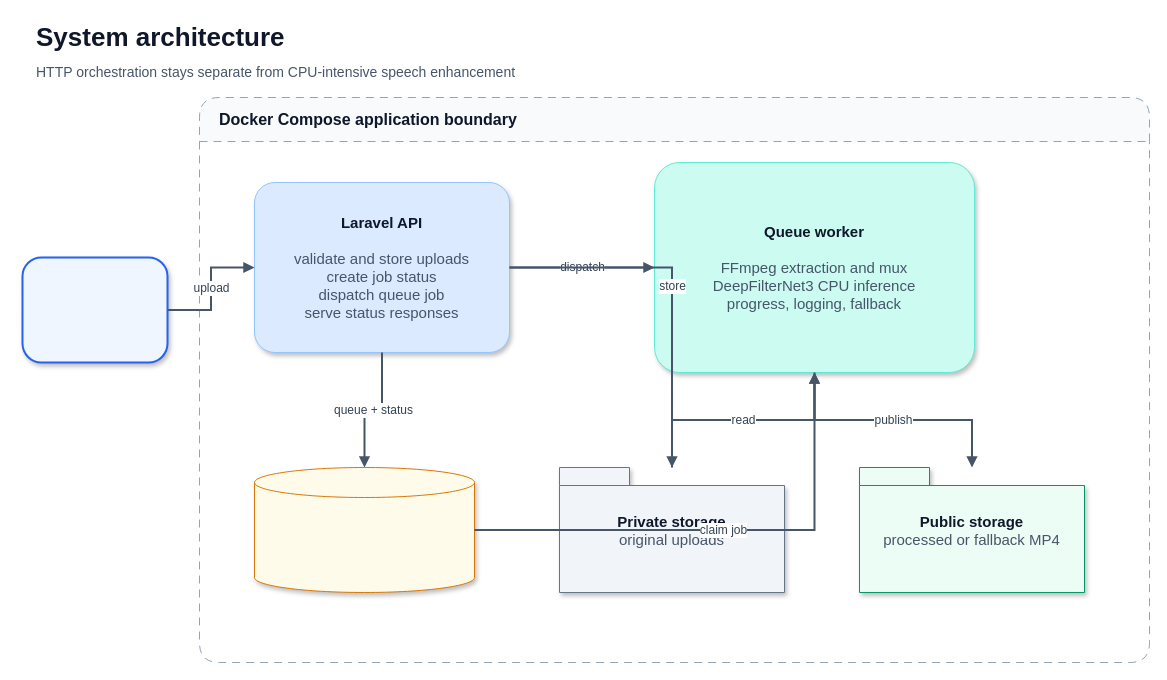
Image size: 1167x680. Some labels were removed from this diagram. Each missing label, with the centre of its shape:
"API client Browser, mobile app or backend service" goes at pixel 95 311.
"MySQL queue, cache, failures" goes at pixel 365 531.
